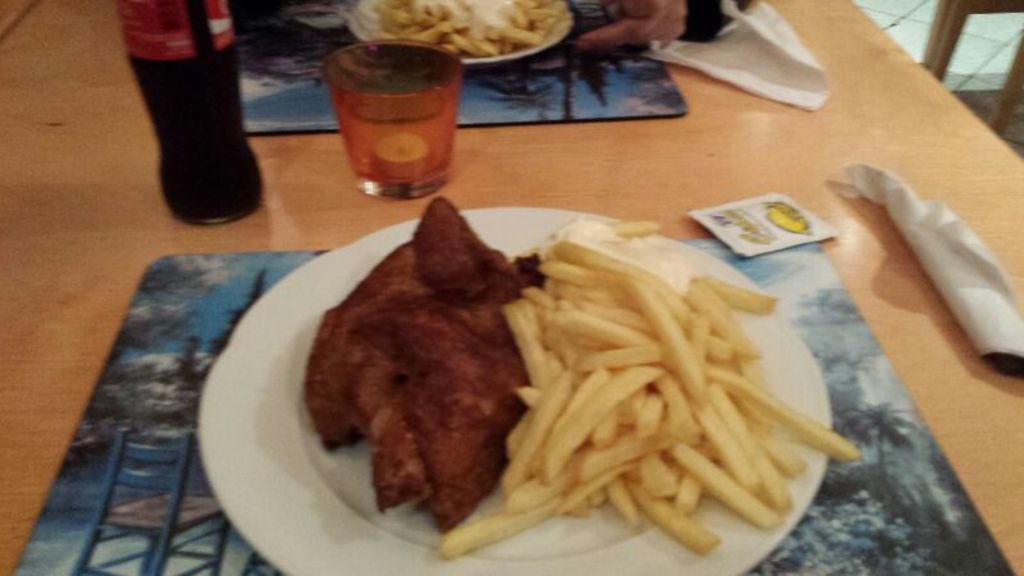French fries: (437, 212, 866, 561), (373, 0, 567, 55)
